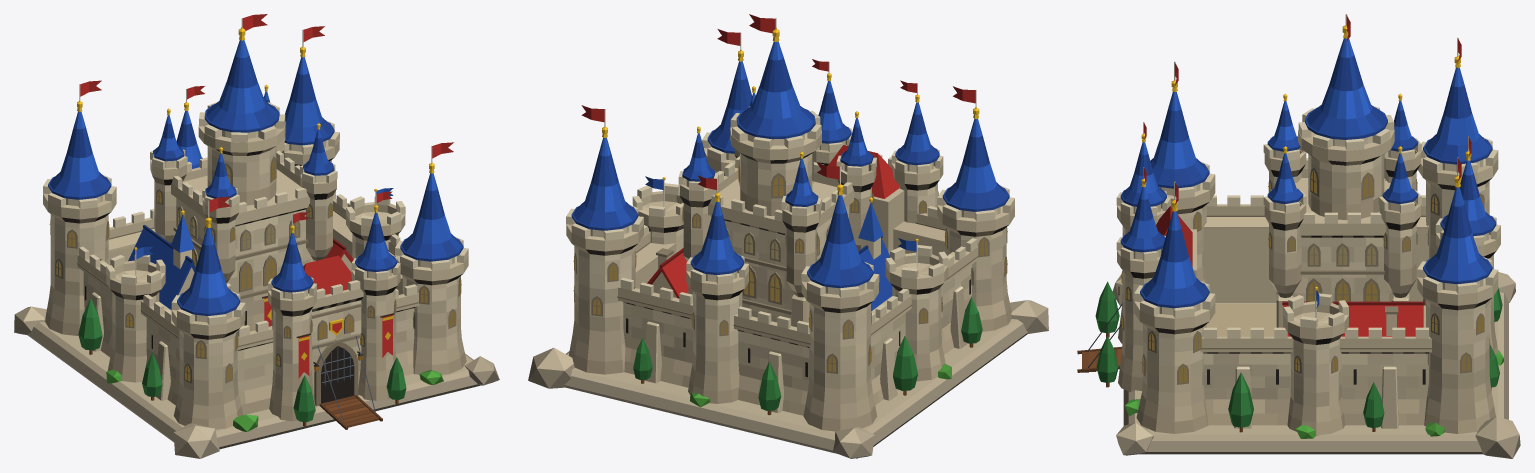
File: castle.glb
3 renders of one model, left to right at view 1: azimuth 30°, elevation 25°; view 2: azimuth 150°, elevation 25°; view 3: azimuth 270°, elevation 25°, orthographic. The views are drawn at different scales.
Visible parts, largest first — view 1: castle; view 2: castle; view 3: castle.
Part boxes in pixels (x1,y1,x2,y2): castle: (14,14,499,458); castle: (528,14,1048,458); castle: (1077,14,1520,458).
Size of the model in its own units: 46.57 by 44.88 by 50.1.
2 materials, 2 textured.
